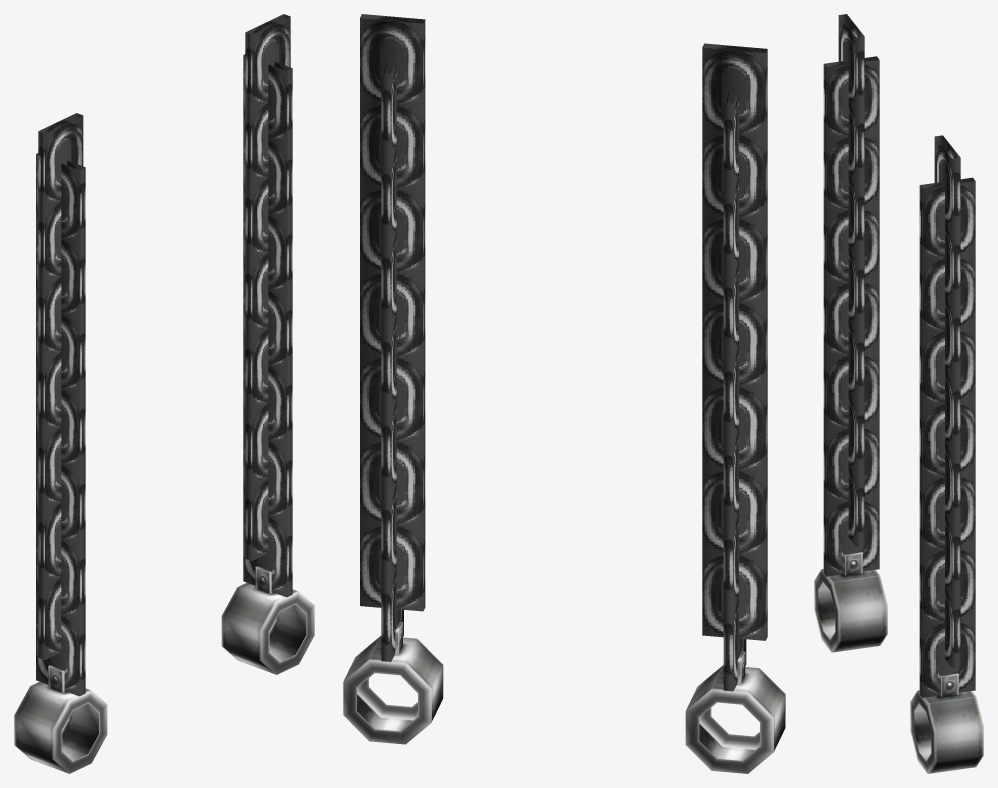
The model's file is SWORDLIGHT20_INST_CHAINCUFFS_LOD1_09.fbx.
3 views of the same model, side by side, from view 1: azimuth 30°, elevation 25°; view 2: azimuth 150°, elevation 25°; view 3: azimuth 270°, elevation 25° (orthographic). The views are drawn at different scales.
Parts seen in each view (by area): view 1: SWORDLIGHT20_INST_CHAINCUFFS_LOD1_09; view 2: SWORDLIGHT20_INST_CHAINCUFFS_LOD1_09; view 3: SWORDLIGHT20_INST_CHAINCUFFS_LOD1_09.
Part boxes in pixels (left/top/right/bottom): SWORDLIGHT20_INST_CHAINCUFFS_LOD1_09: left=14, top=14, right=314, bottom=773; SWORDLIGHT20_INST_CHAINCUFFS_LOD1_09: left=343, top=14, right=785, bottom=773; SWORDLIGHT20_INST_CHAINCUFFS_LOD1_09: left=814, top=14, right=983, bottom=773.
Bounding box in the file's own units: 6710 × 12114 × 3013.
2 materials, 2 textured.
